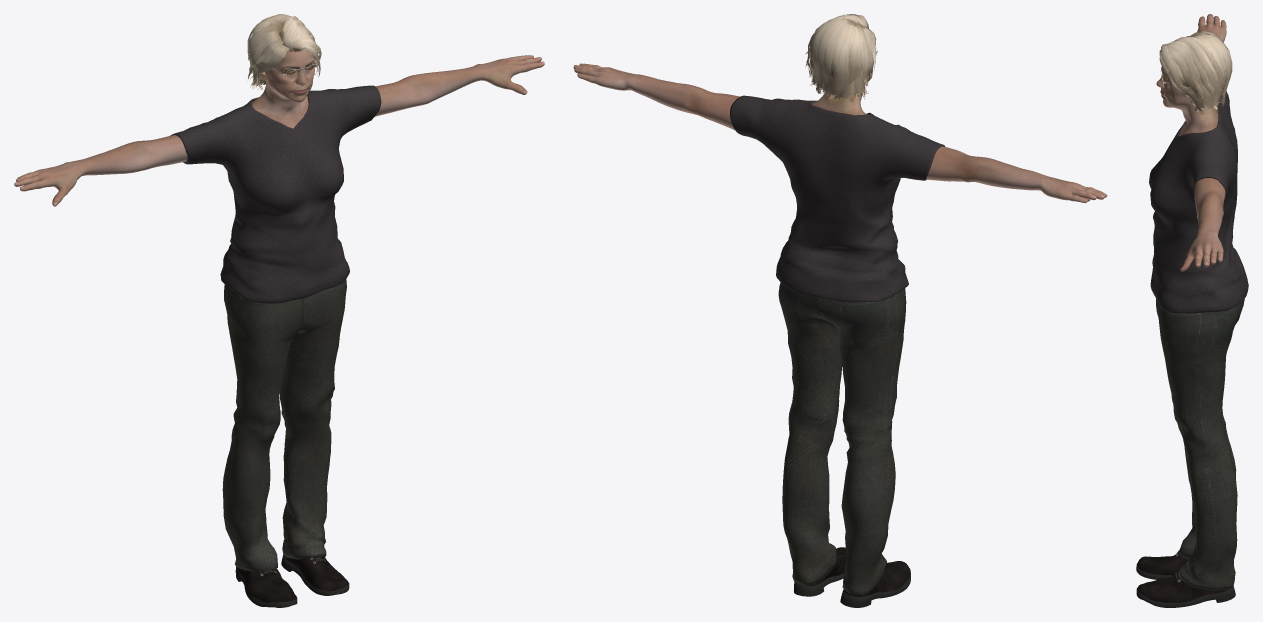
File: SarahDefault-OBJ.obj
3 renders of one model, left to right at view 1: azimuth 30°, elevation 25°; view 2: azimuth 150°, elevation 25°; view 3: azimuth 270°, elevation 25°, orthographic. The views are drawn at different scales.
Parts seen in each view (by area): view 1: Bottoms, Tops, Body, Shoes, Hair; view 2: Bottoms, Tops, Body, Hair, Shoes; view 3: Bottoms, Tops, Body, Hair, Shoes.
Part boxes in pixels (x1=…): Bottoms: x1=222, y1=279, x2=346, y2=571; Tops: x1=170, y1=85, x2=381, y2=303; Body: x1=14, y1=34, x2=544, y2=206; Shoes: x1=235, y1=555, x2=349, y2=607; Hair: x1=247, y1=14, x2=321, y2=89; Bottoms: x1=778, y1=282, x2=906, y2=595; Tops: x1=730, y1=95, x2=945, y2=302; Body: x1=573, y1=60, x2=1107, y2=203; Hair: x1=805, y1=14, x2=876, y2=104; Shoes: x1=794, y1=547, x2=910, y2=607; Bottoms: x1=1156, y1=298, x2=1244, y2=590; Tops: x1=1149, y1=88, x2=1248, y2=313; Body: x1=1156, y1=14, x2=1226, y2=271; Hair: x1=1159, y1=31, x2=1232, y2=114; Shoes: x1=1136, y1=550, x2=1235, y2=607.
Size of the model in its own units: 172 by 177 by 32.72.
6 materials, 6 textured.
